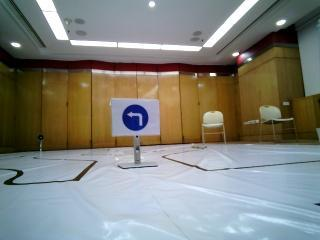left: (113, 100, 159, 131)
